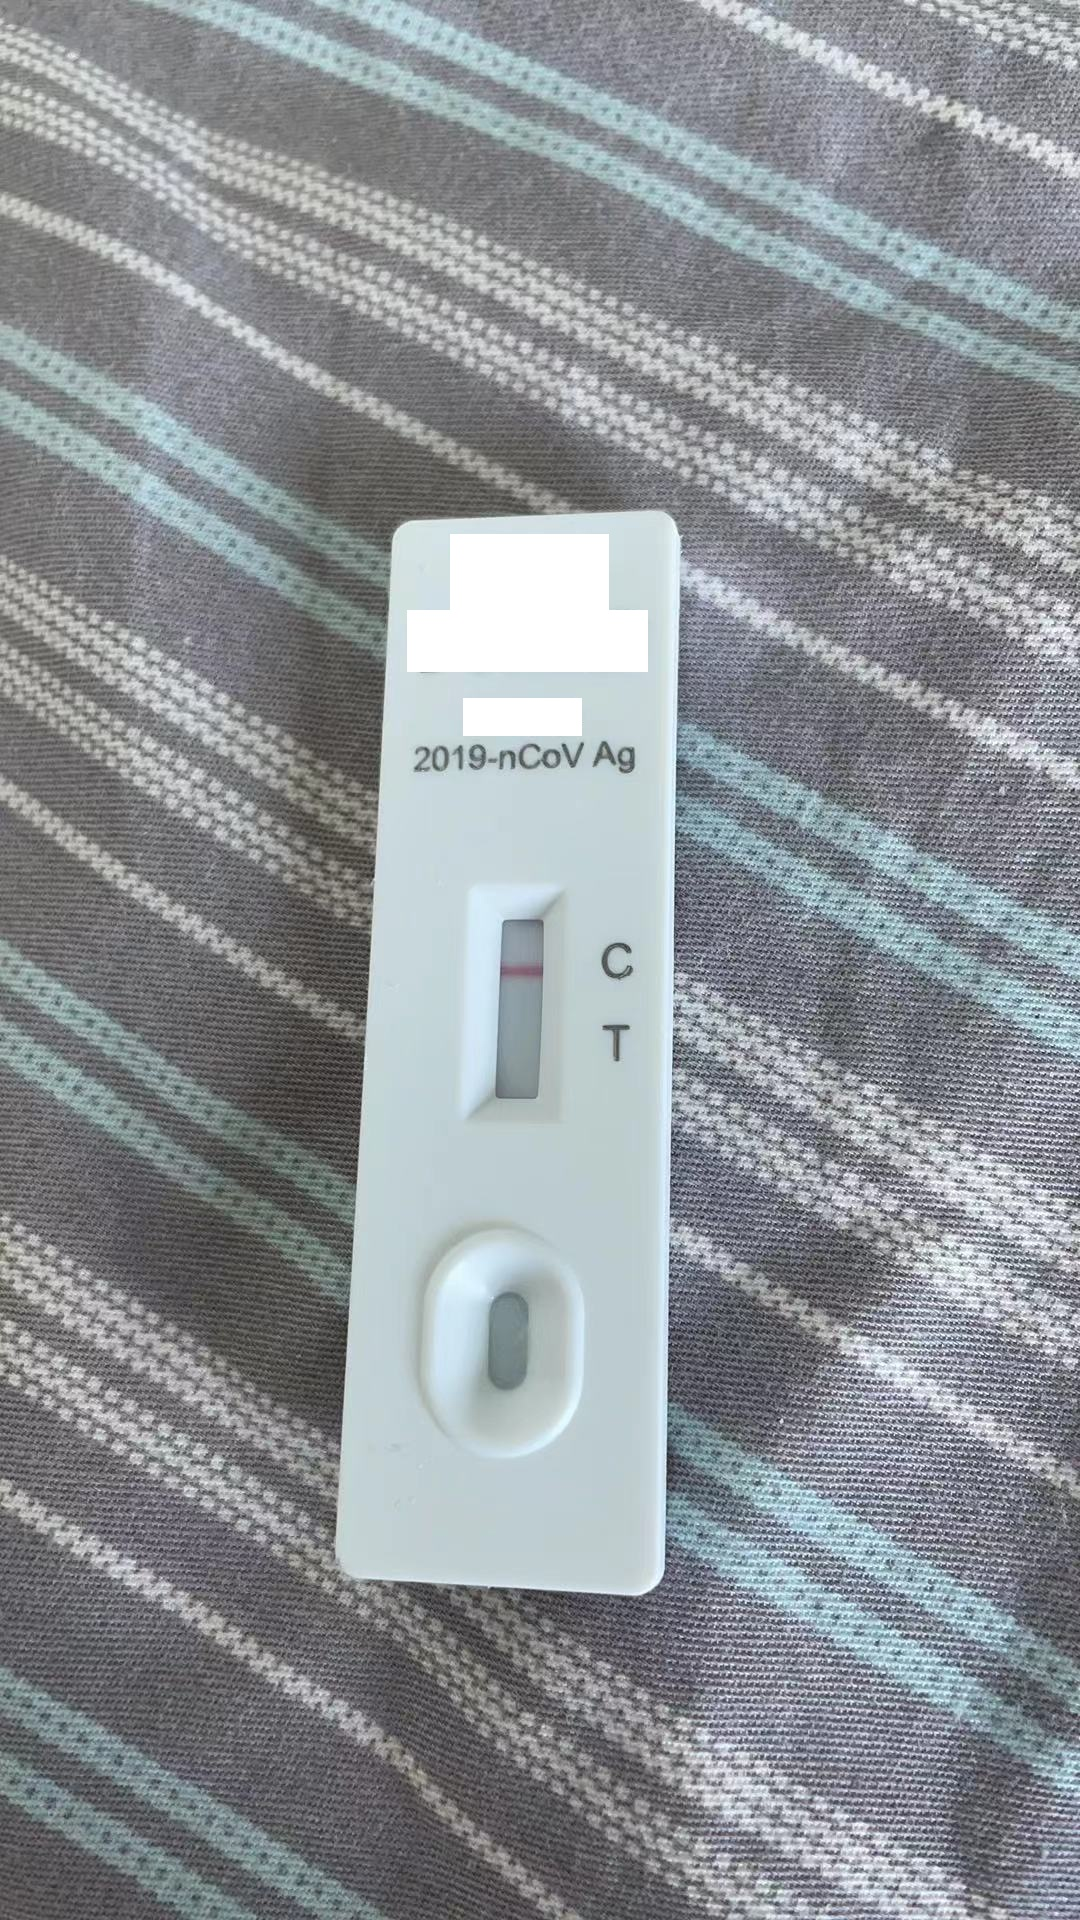negative: (468, 886, 566, 1122)
